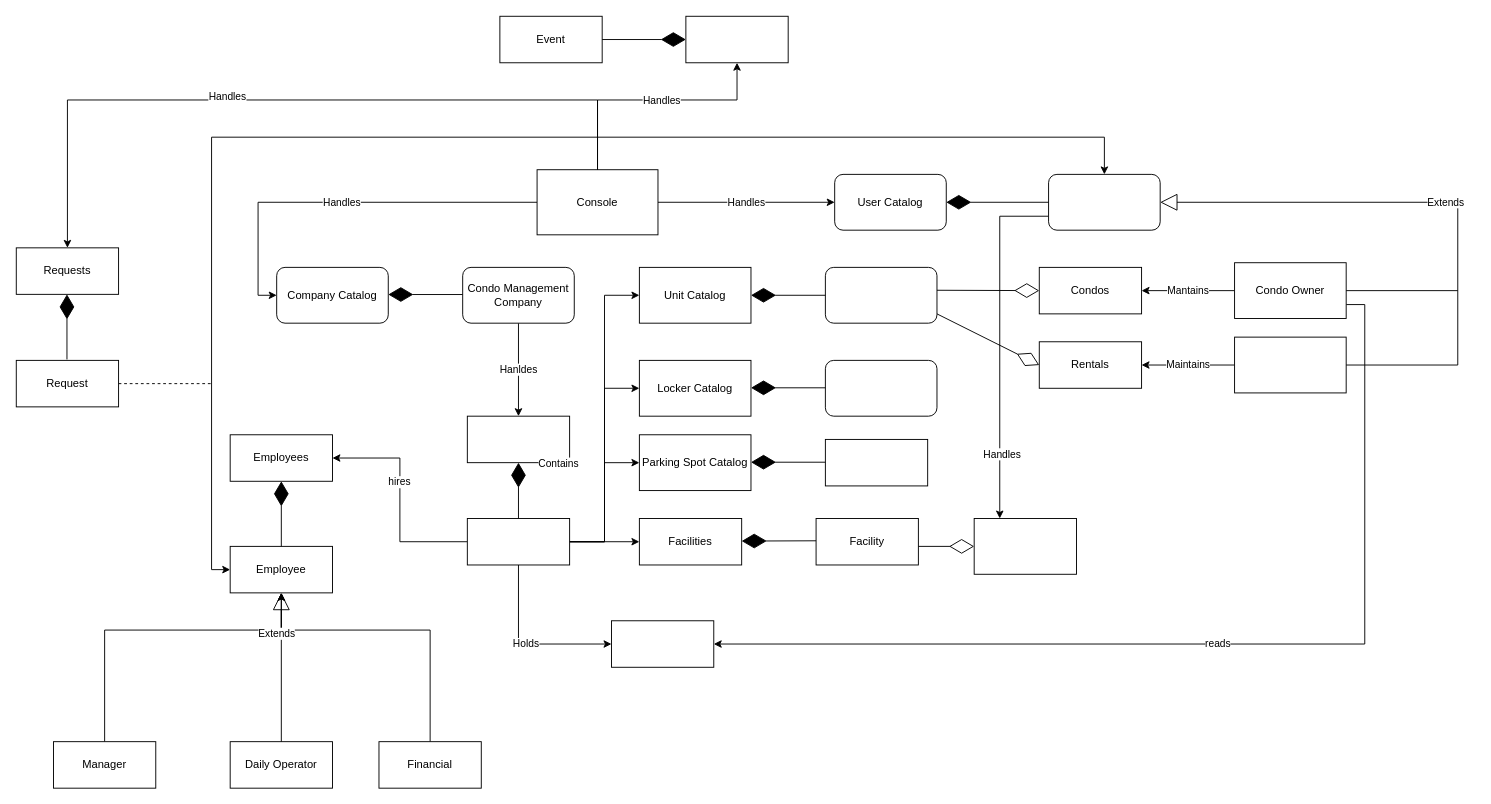
Image size: 1491x804. Some labels were removed from this diagram. The box of each missing label's shape, as (x1, y1, x2, y2) in pixels:
Event Catalog: (685, 15, 788, 63)
Locker: (824, 359, 937, 416)
Parking Spot: (824, 438, 928, 486)
Property: (466, 518, 570, 565)
Property Catalog: (466, 415, 570, 463)
Property Info Files: (611, 620, 714, 667)
Public User: (1048, 173, 1160, 230)
Renter: (1234, 336, 1346, 393)
Reservations: (973, 518, 1076, 574)
Unit Profile: (824, 266, 937, 323)
